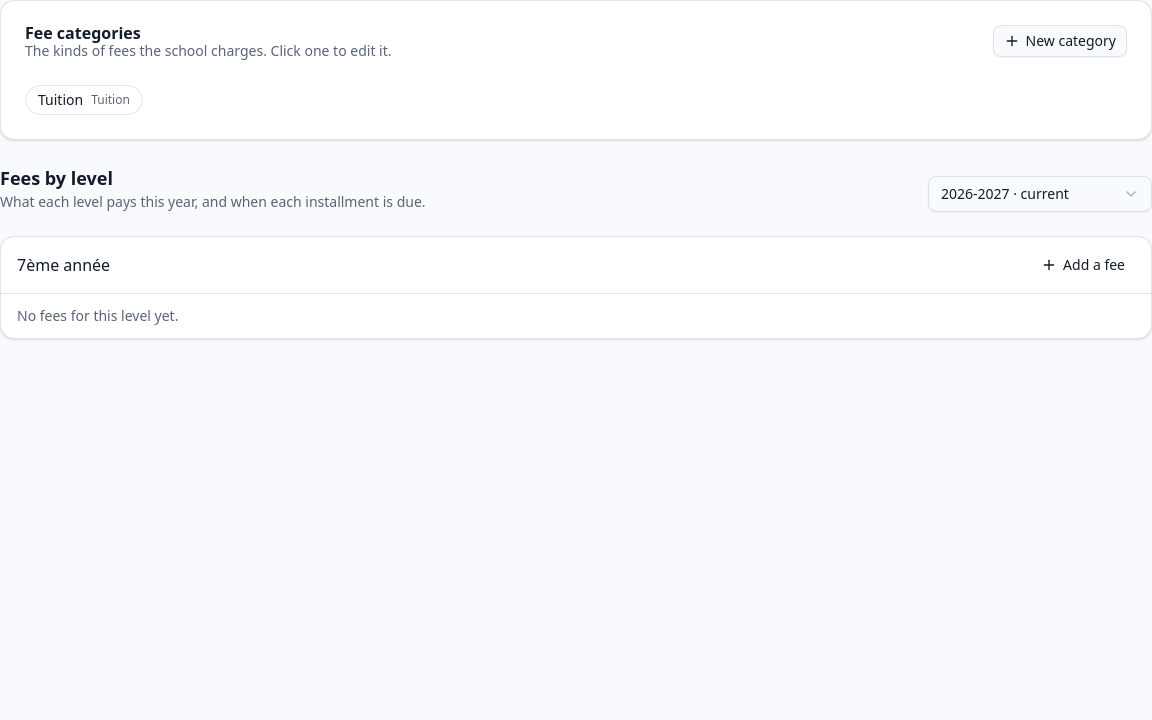
Scenario: FeesPage › refuses installments that do not add up to the fee
Click the button "Add a fee" at (1083, 265), box [1031, 249, 1135, 281]
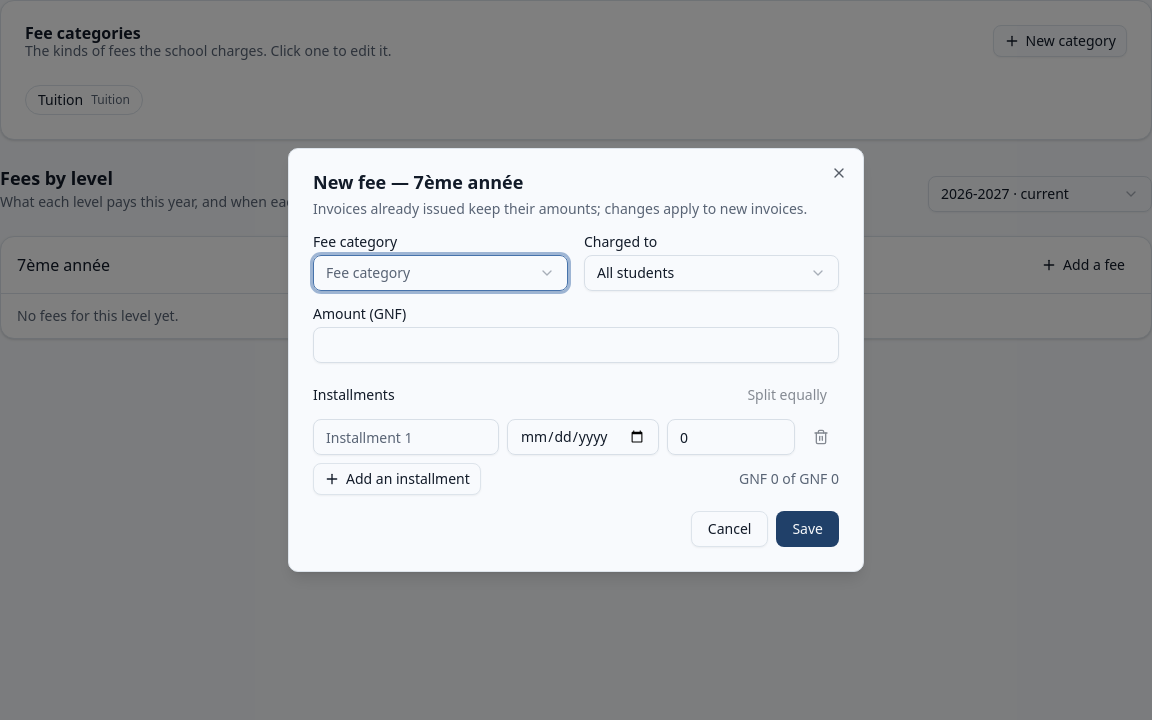
Click the dropdown labelled "Fee category" at (440, 273), box [313, 255, 568, 291]
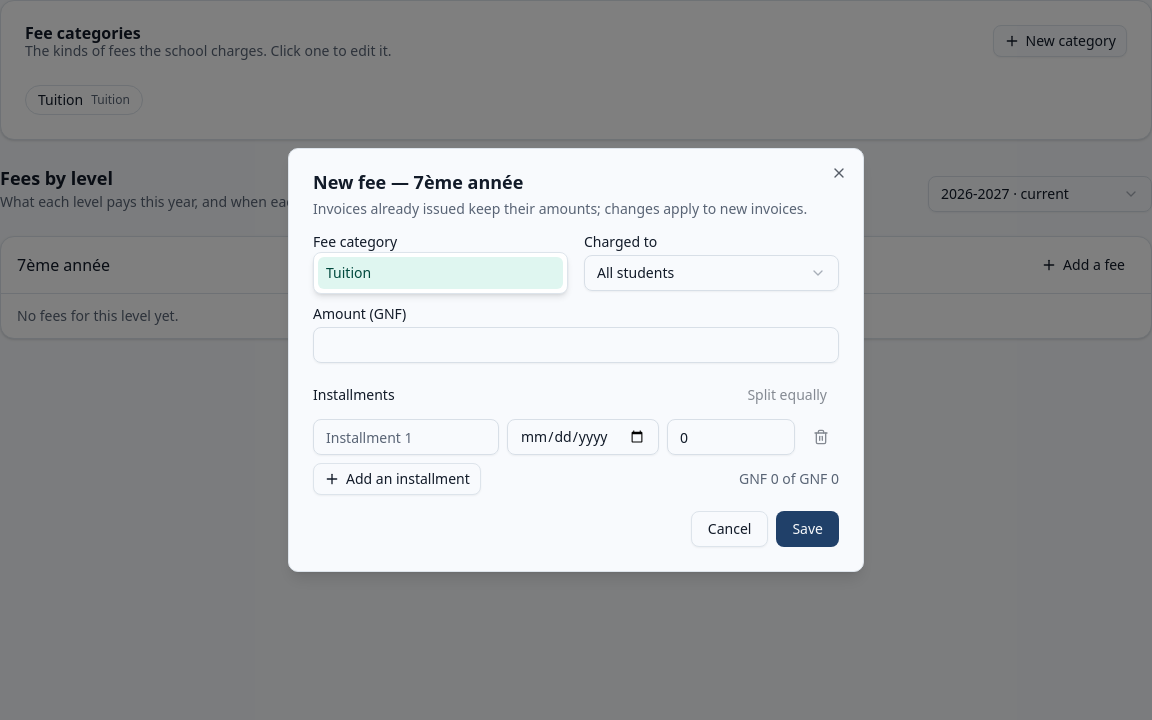
Click the option "Tuition" at (440, 273), box [318, 257, 563, 289]
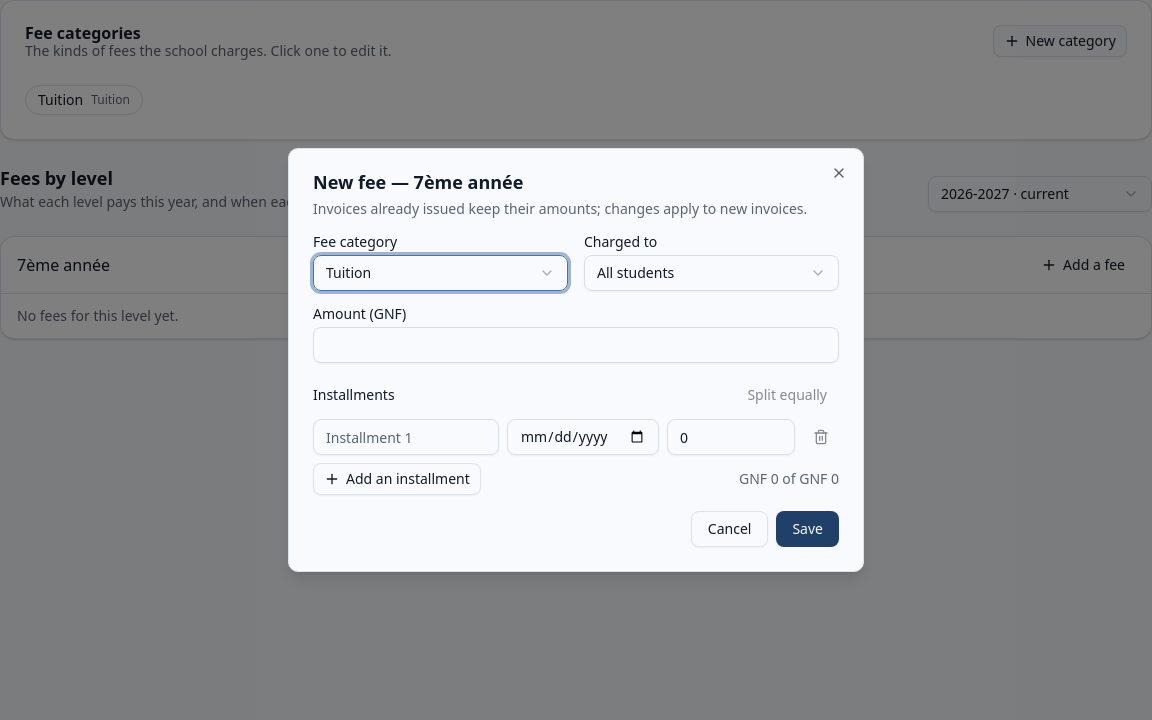
Type "900000" into the number field labelled "Amount (GNF)" at (576, 345), box [313, 327, 839, 363]
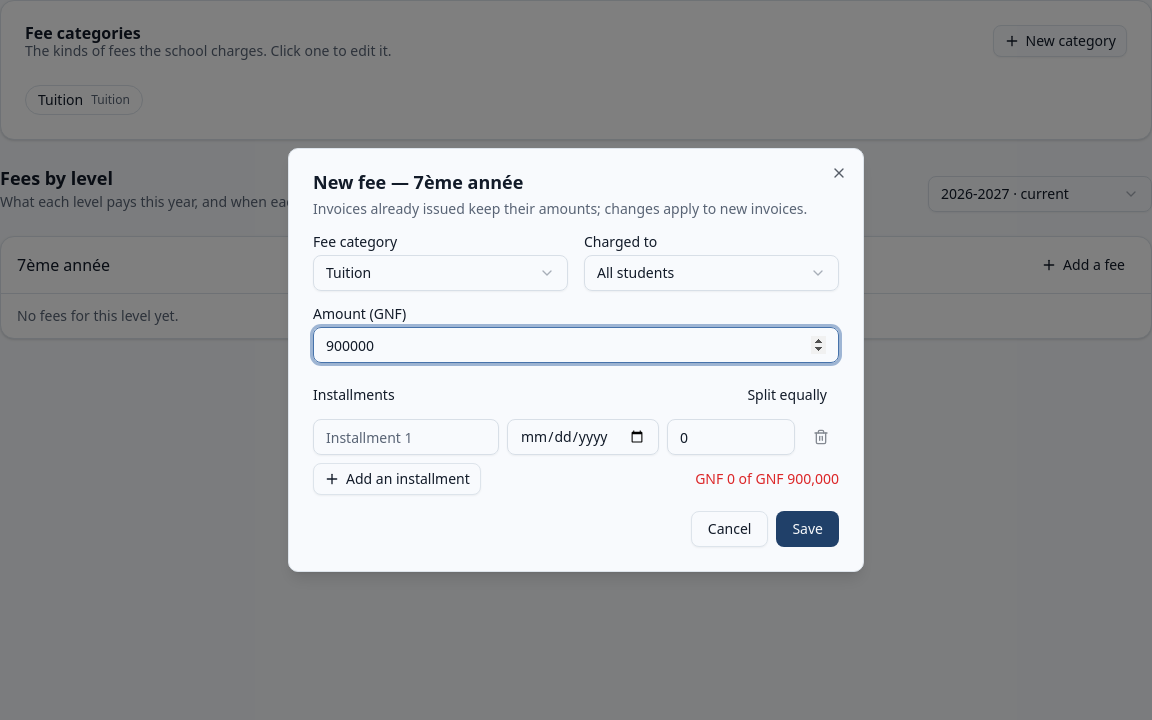
Type "2026-10-01" into the date field named "Due date" at (583, 437), box [507, 419, 659, 455]
Replace the text in the number field named "Amount" with "400000" at (731, 437), box [667, 419, 795, 455]
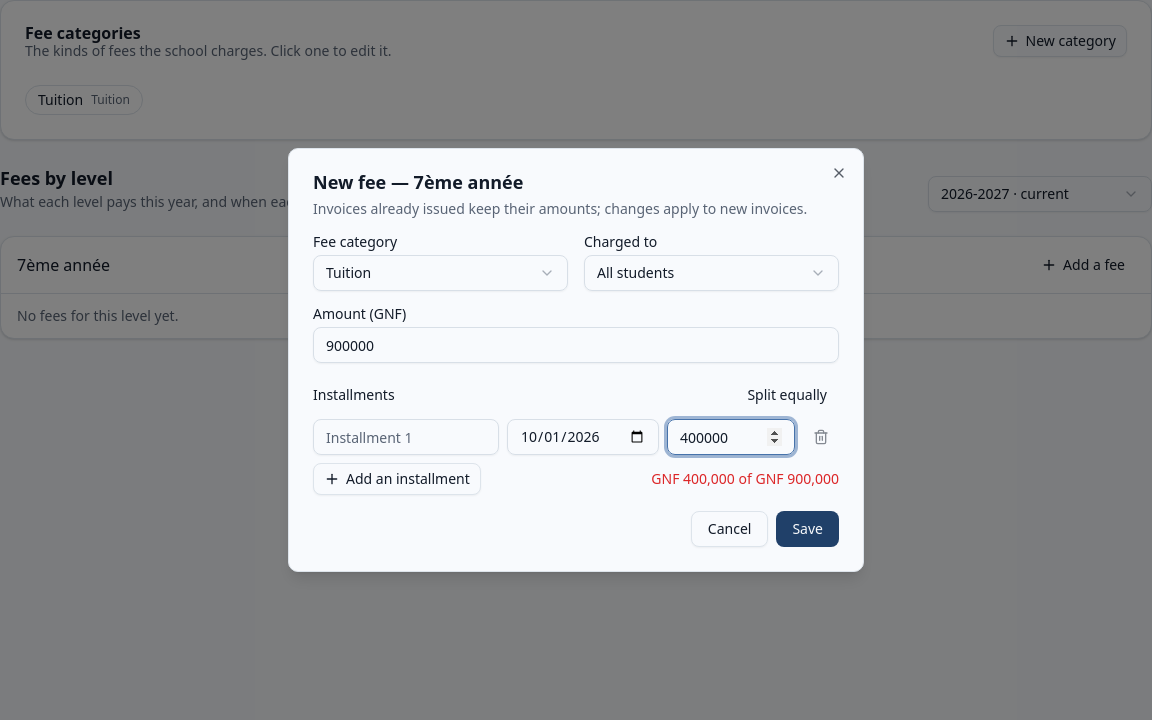
Click the button "Save" at (808, 529), box [776, 511, 839, 547]
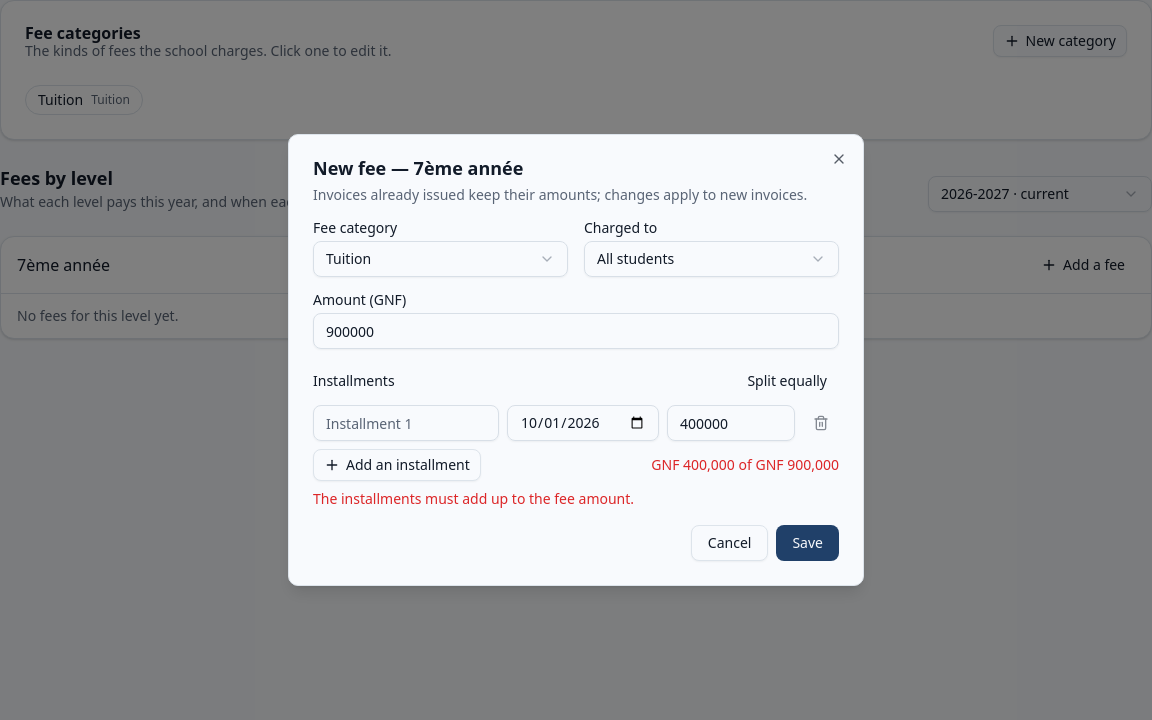
Now the text "The installments must add up to the fee amount." is shown, box [313, 489, 634, 508]
